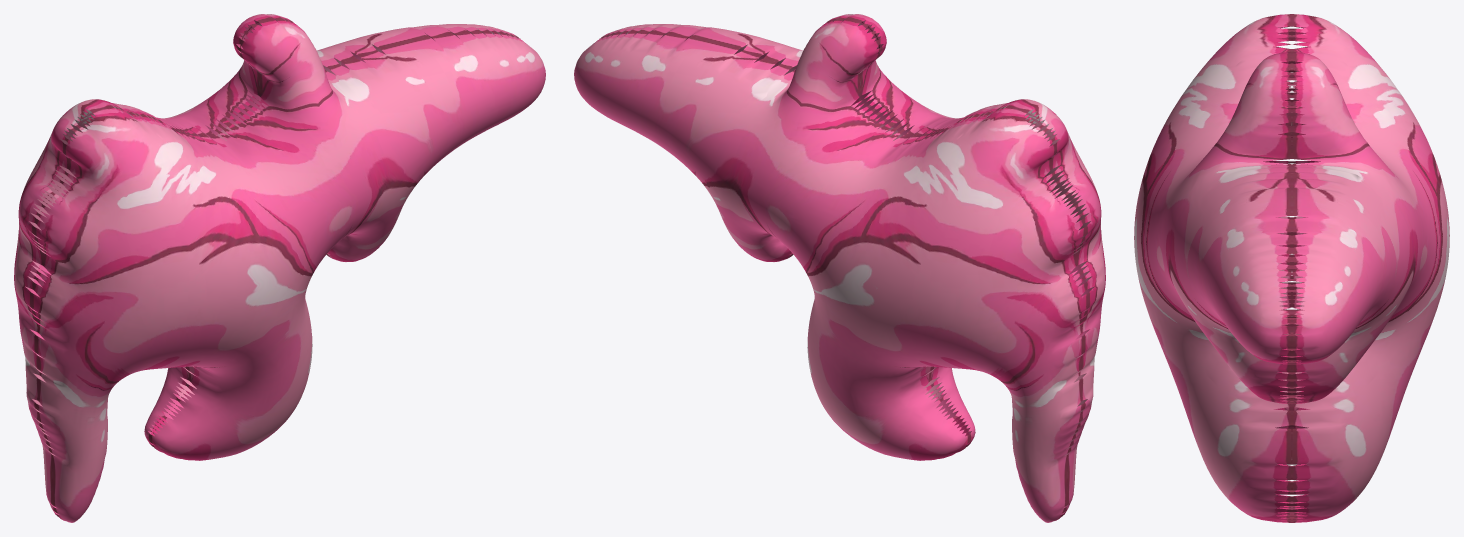
Rendered from pink_tendril_plant.glb.
3 renders of one model, left to right at view 1: azimuth 30°, elevation 25°; view 2: azimuth 150°, elevation 25°; view 3: azimuth 270°, elevation 25°, orthographic. The views are drawn at different scales.
Parts seen in each view (by area): view 1: pink_tendril_plant; view 2: pink_tendril_plant; view 3: pink_tendril_plant.
Part boxes in pixels (x1,y1,x2,y2): pink_tendril_plant: (14,14,545,522); pink_tendril_plant: (574,14,1105,522); pink_tendril_plant: (1134,14,1449,522).
Size of the model in its own units: 0.989 by 0.844 by 0.4556.
Materials: 1 (1 with a texture image).
